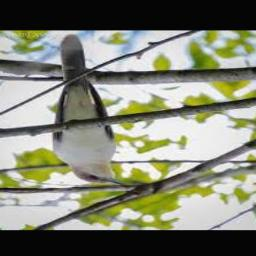Cuckoo: (54, 35, 126, 185)
